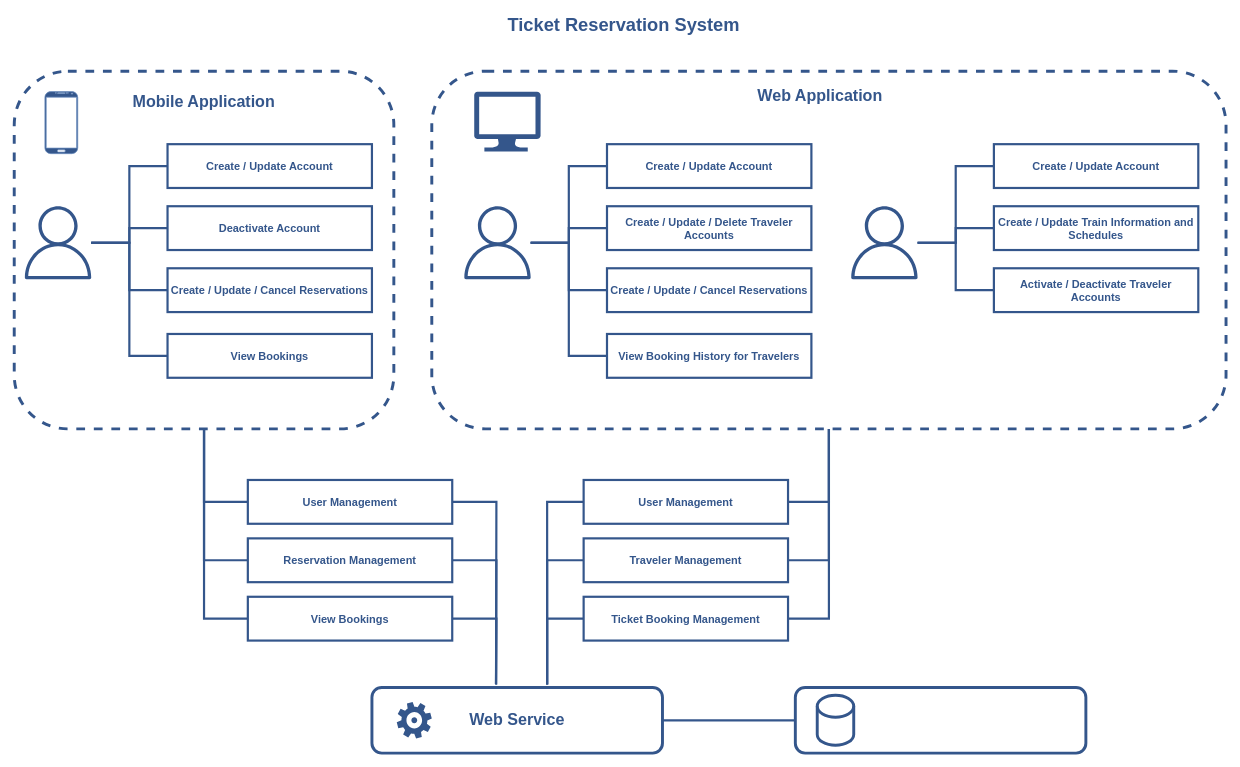
This 1240x767 diagram has some shape labels left out. Here are the shapes that lost their labels. From the top down, the box of each, then its label:
(21, 206, 94, 279): Traveler
(461, 206, 534, 279): Travel Agent
(848, 206, 921, 279): Backoffice
(794, 686, 1087, 754): NoSQL Database
